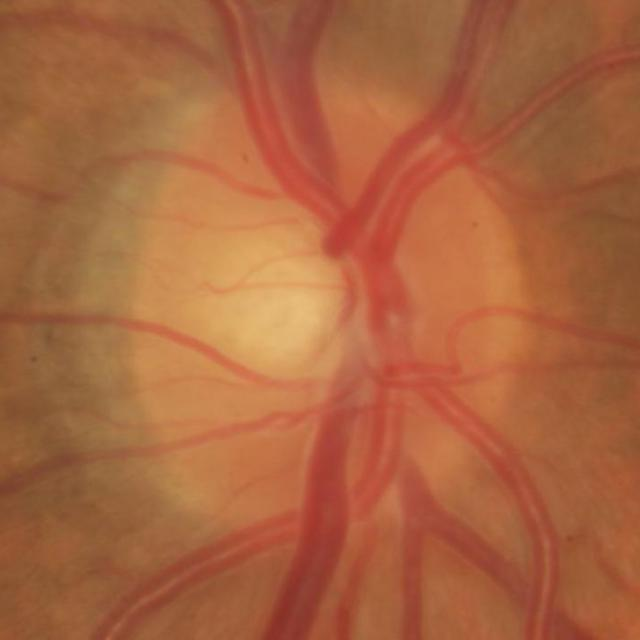OC: (201, 218, 368, 389)
OD: (120, 92, 528, 518)
